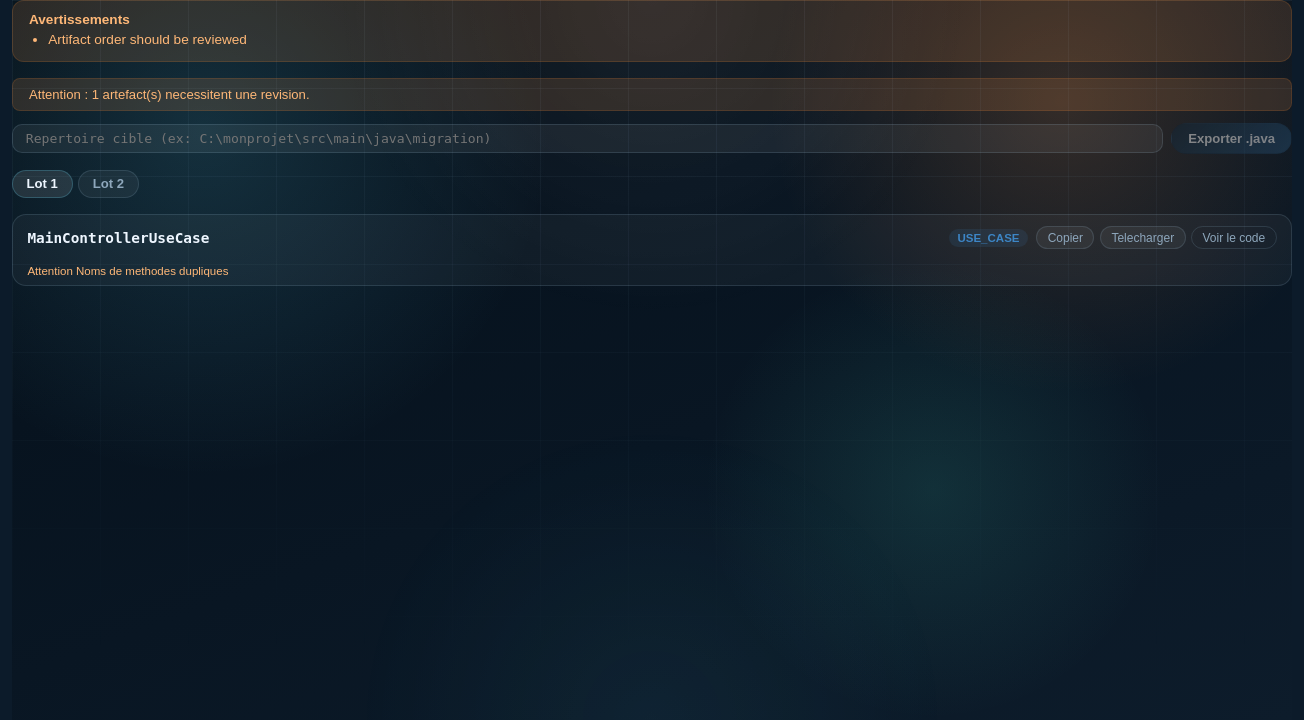
Test case: ArtifactsViewComponent › should render lots, allow code toggle and export successfully
Check: the element with class "warning-banner" is shown, box [12,0,1292,62]
Check: the text "Attention : 1 artefact(s) necessitent une revision." is shown, box [12,78,1292,111]
Click the button with class "code-toggle": (1234, 238) [1191,226,1277,249]
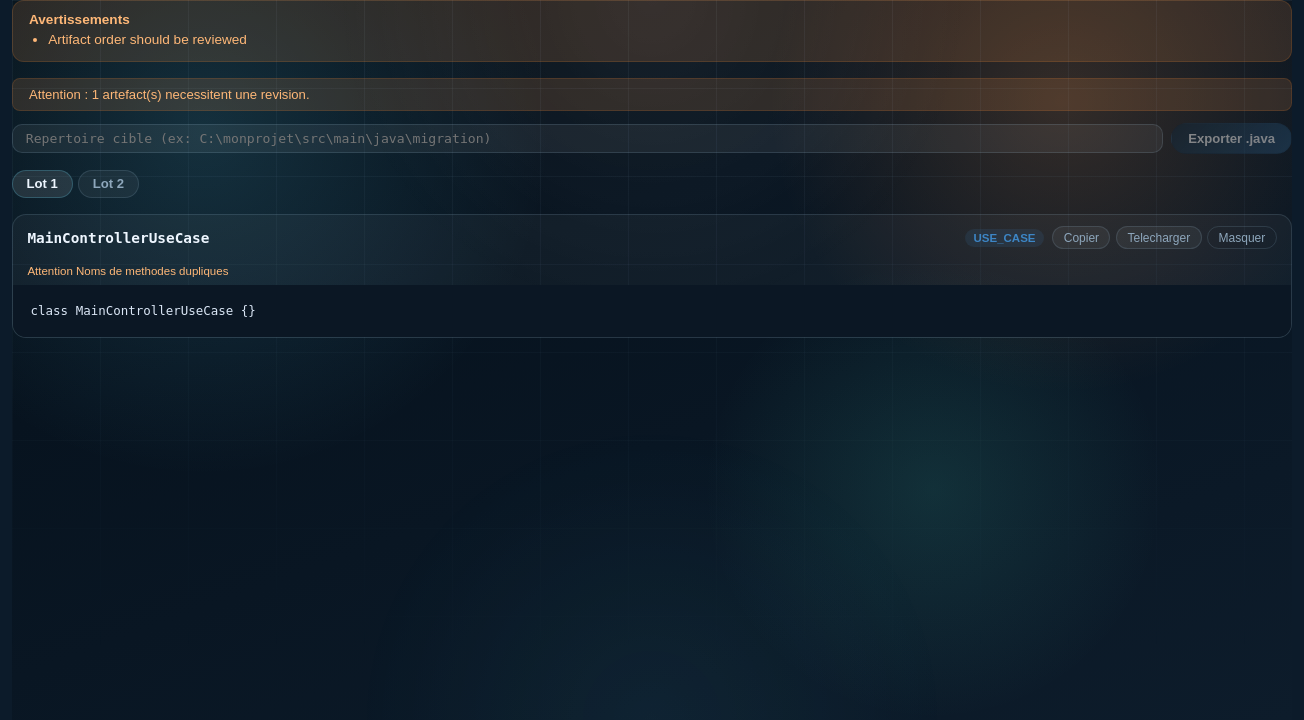
Check: the text with class "code-block" shows "MainControllerUseCase", box [31,303,256,318]
In the field with class "export-input": (588, 139) [12,124,1163,154], type "  /tmp/out  "
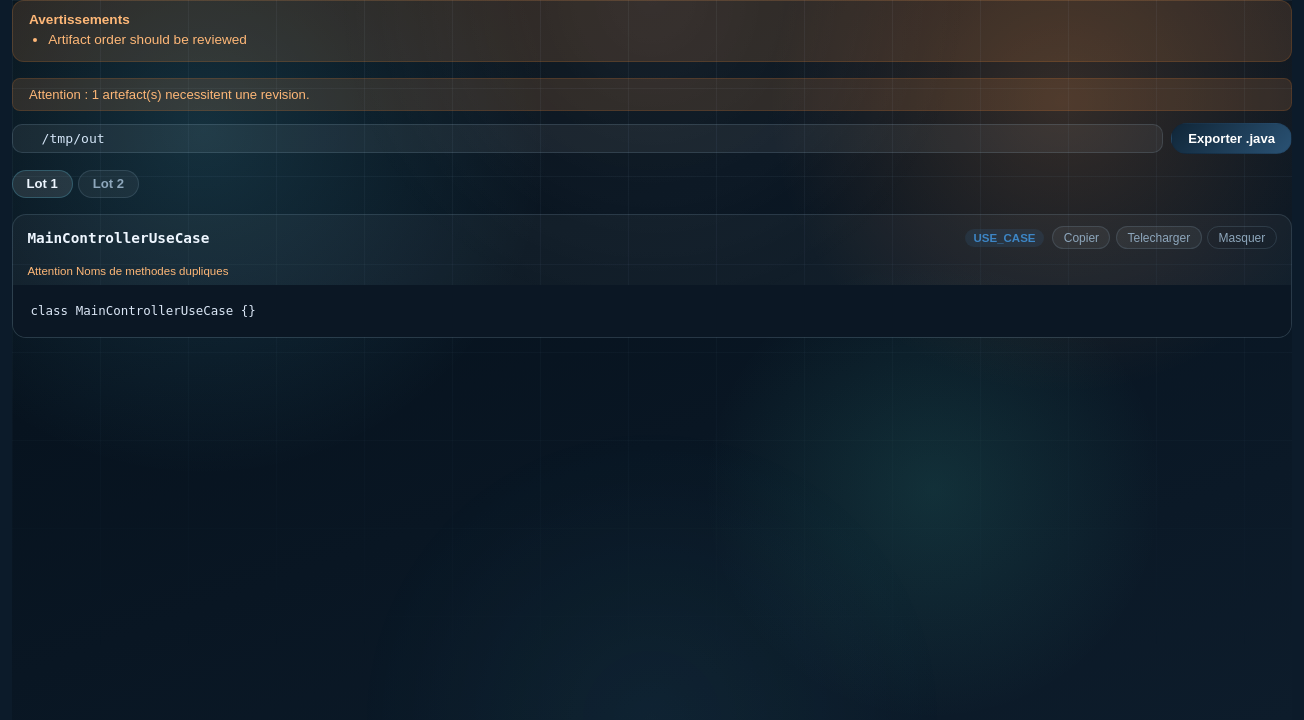
Click the button with class "export-btn": (1232, 139) [1171,123,1292,154]
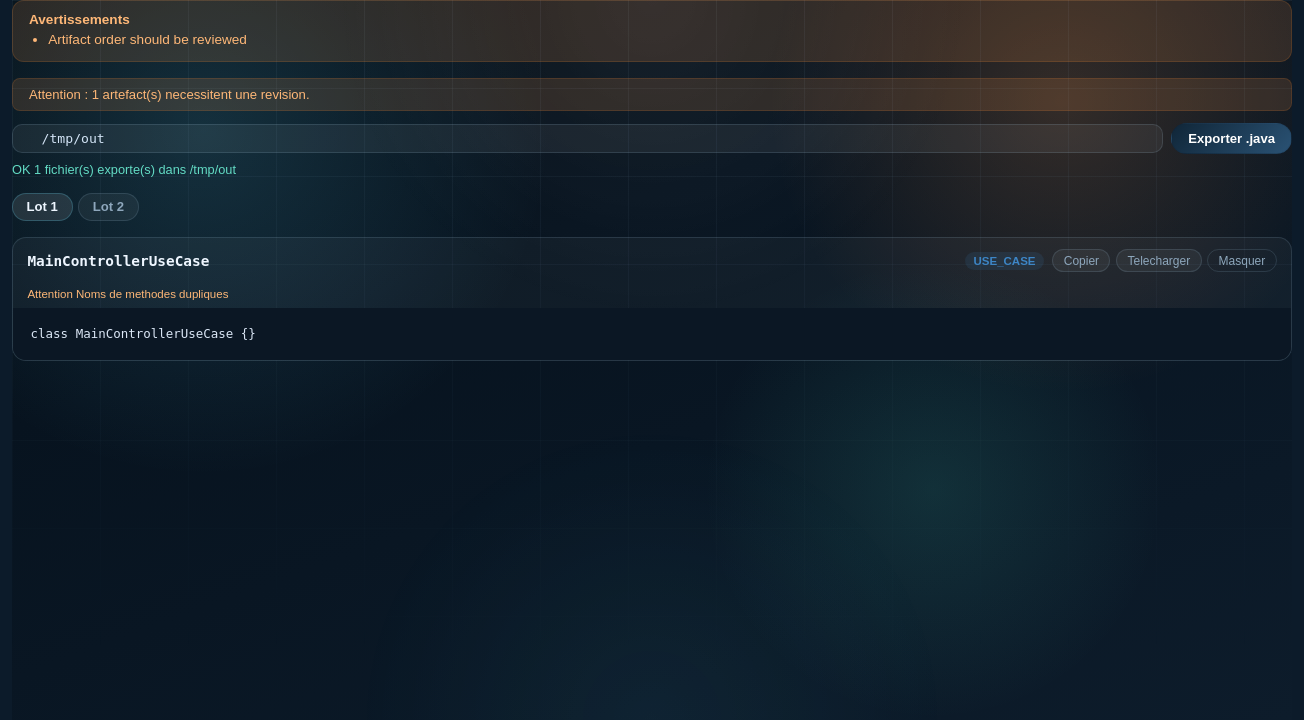
Check: the text with class "export-ok" shows "1 fichier", box [12,162,236,177]
